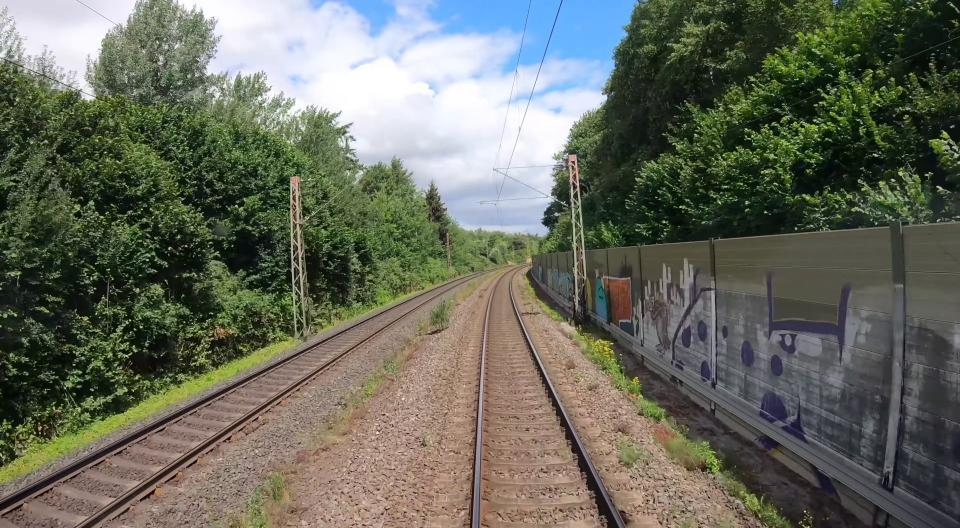Plant: (0, 338, 300, 486), (318, 335, 423, 449), (708, 452, 793, 528), (578, 328, 642, 397), (228, 472, 299, 528), (654, 422, 722, 474), (418, 280, 483, 332), (637, 396, 666, 422), (617, 441, 644, 467), (559, 322, 584, 345), (615, 421, 632, 434), (714, 520, 735, 528), (586, 382, 600, 391), (680, 520, 694, 528), (566, 359, 576, 369)
